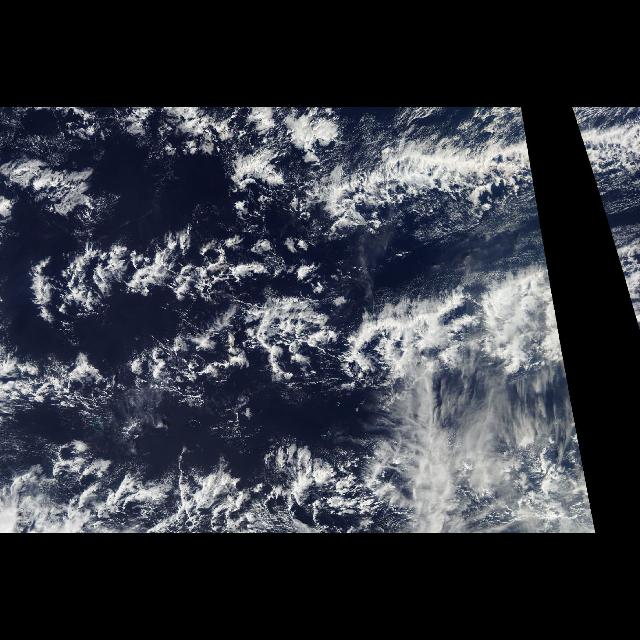Fish: (0, 107, 598, 533), (570, 107, 640, 330)
Gravel: (48, 248, 340, 388), (108, 450, 372, 520)
